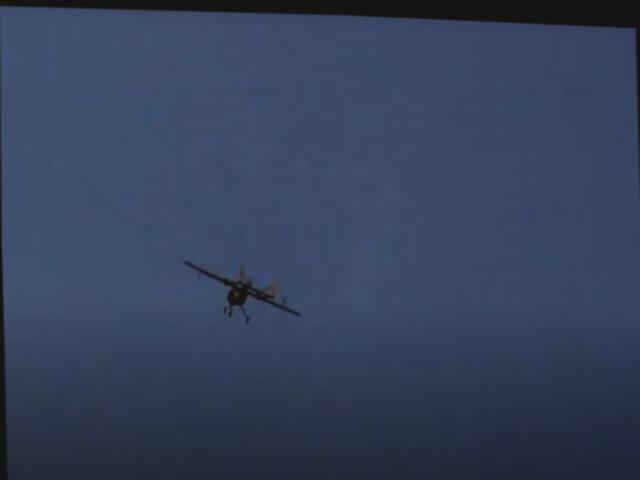iha: (175, 251, 300, 325)
